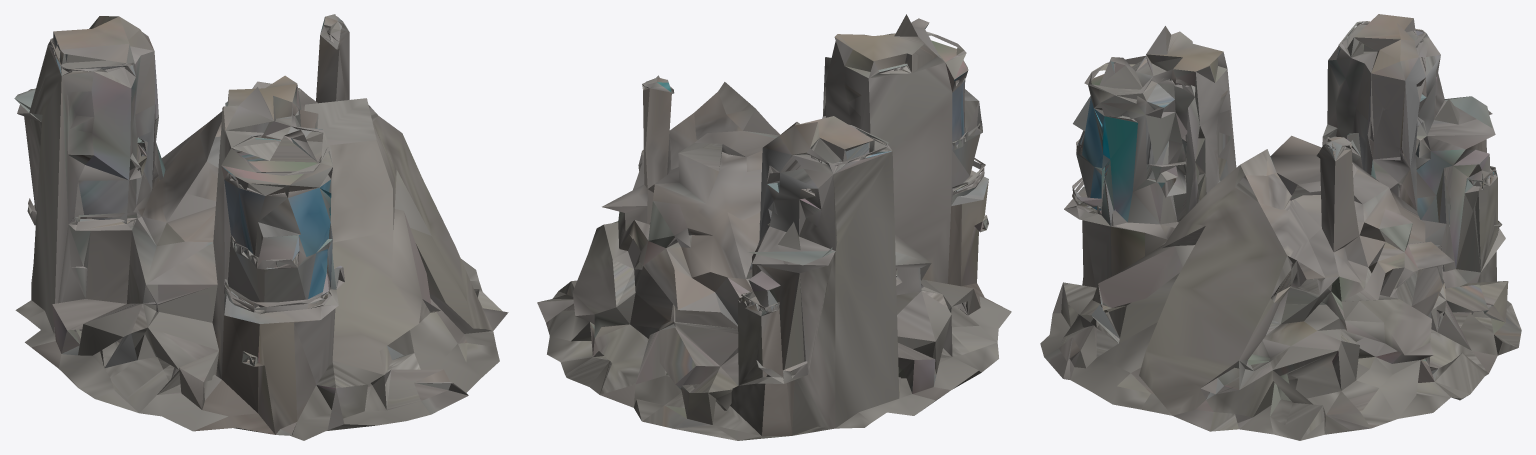
The model's file is k11_far.glb.
3 views of the same model, side by side, from view 1: azimuth 30°, elevation 25°; view 2: azimuth 150°, elevation 25°; view 3: azimuth 270°, elevation 25° (orthographic). The views are drawn at different scales.
Visible parts, largest first — view 1: k11_far; view 2: k11_far; view 3: k11_far.
Boxes of the visible parts, left/top/right/bottom form: k11_far: left=14, top=14, right=508, bottom=440; k11_far: left=537, top=14, right=1011, bottom=440; k11_far: left=1040, top=14, right=1521, bottom=440.
Size of the model in its own units: 17.17 by 12 by 18.29.
Materials: 1 (1 with a texture image).
